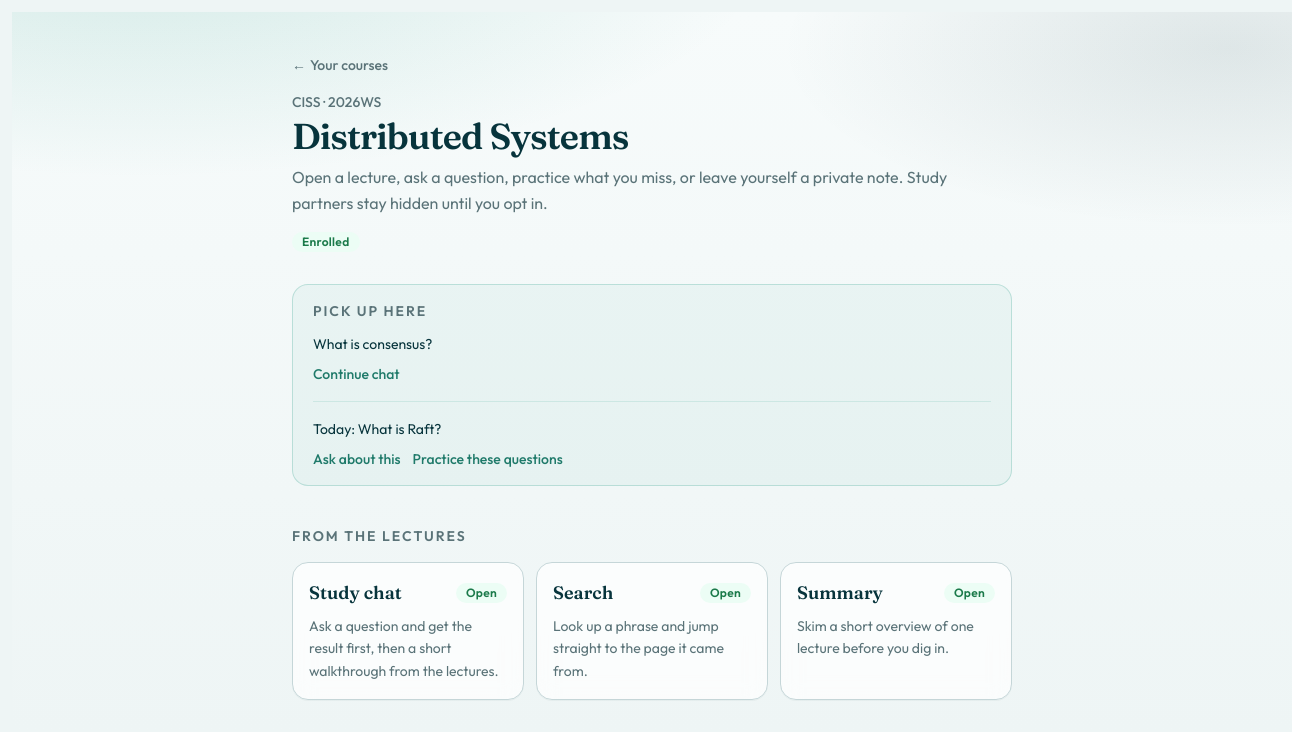
Test case: course home continue › shows the last chat, today’s gap, lecture marks, and starts practice
Expected: the text "What is consensus?" is shown, x1=313 y1=335 x2=432 y2=353
Expected: the text "Today: What is Raft?" is shown, x1=313 y1=420 x2=441 y2=438
Click the button "Practice these questions" at (488, 458), box x1=413 y1=448 x2=563 y2=468
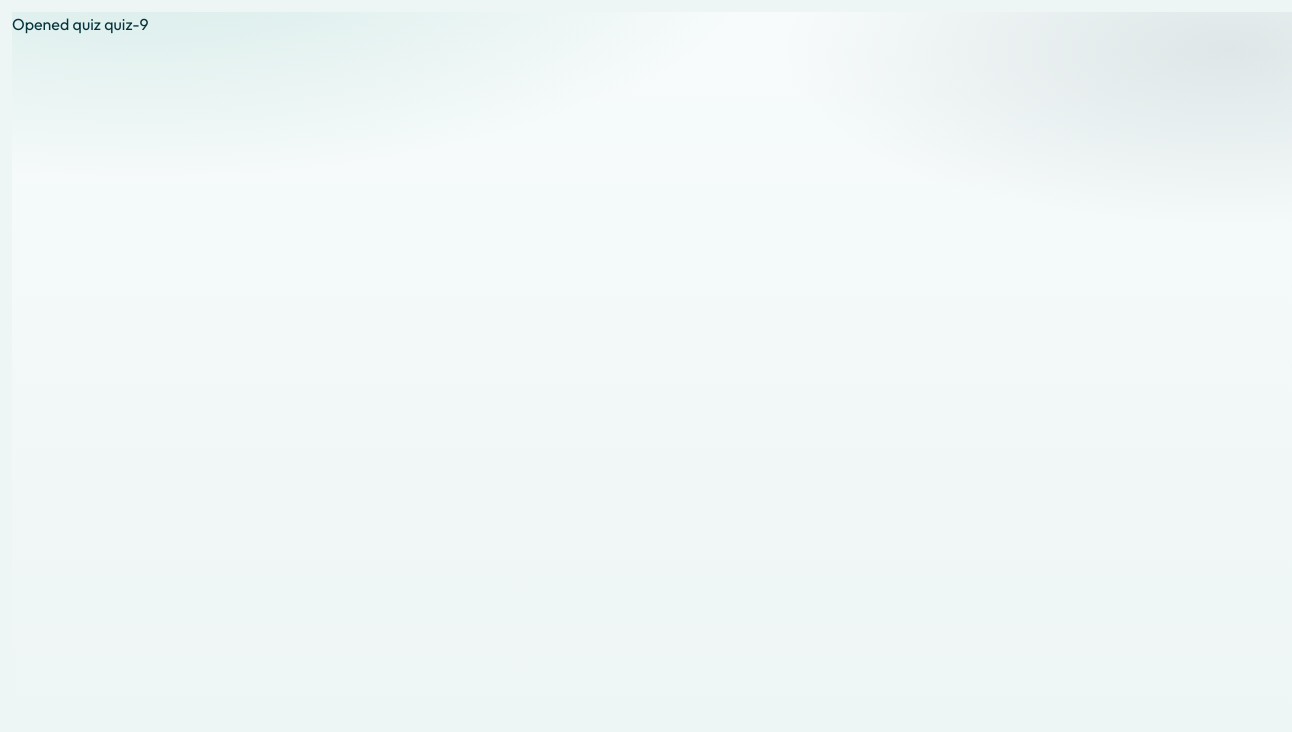
Expected: the text "Opened quiz quiz-9" is shown, x1=12 y1=14 x2=149 y2=34
